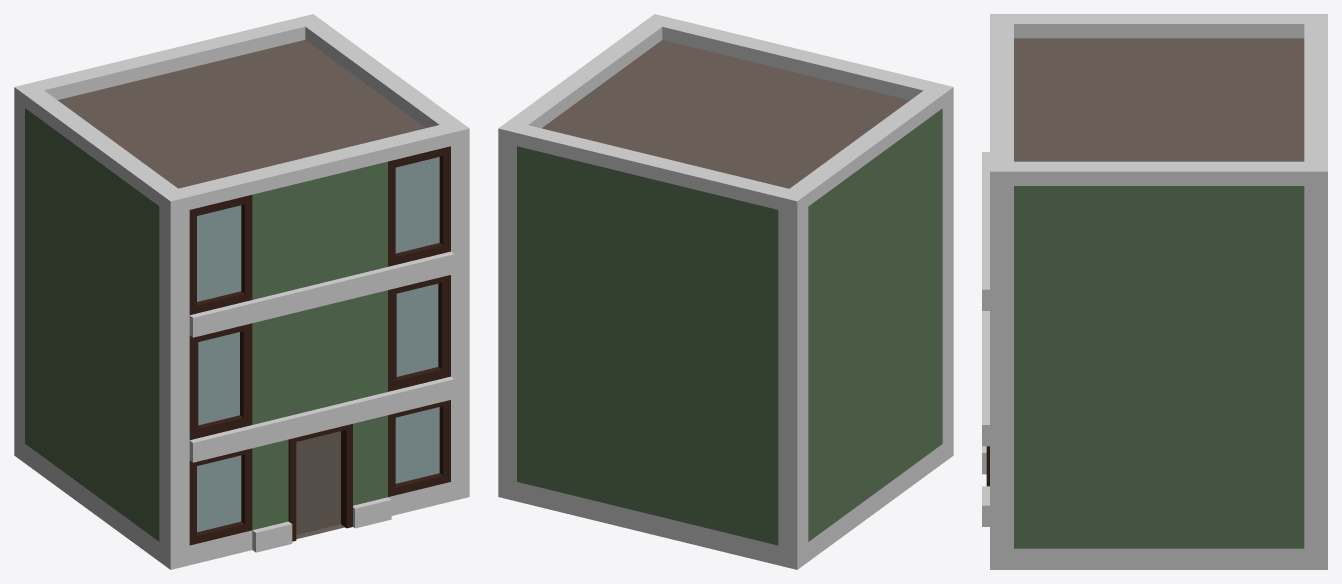
The model's file is mgreen.fbx.
3 renders of one model, left to right at view 1: azimuth 30°, elevation 25°; view 2: azimuth 150°, elevation 25°; view 3: azimuth 270°, elevation 25°, orthographic. The views are drawn at different scales.
Visible parts, largest first — view 1: pCube1; view 2: pCube1; view 3: pCube1.
Boxes of the visible parts, <box> form: pCube1: <box>14,14,469,569</box>; pCube1: <box>498,14,953,569</box>; pCube1: <box>982,14,1327,569</box>.
Size of the model in its own units: 23.78 by 28 by 22.04.
